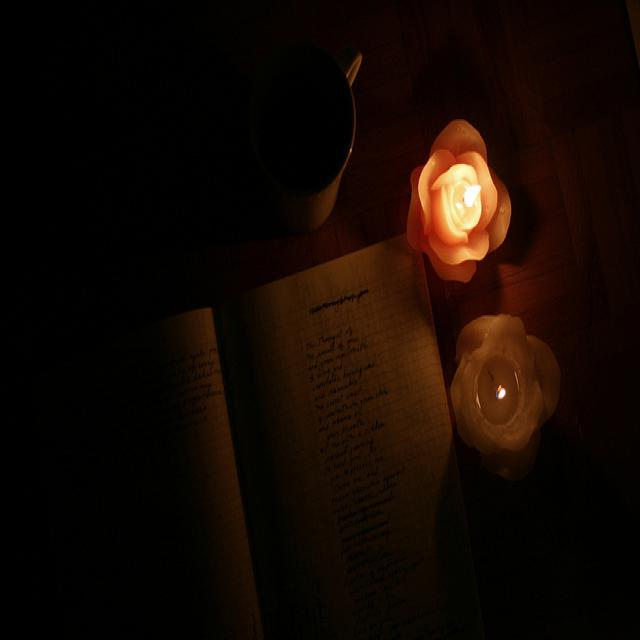Cup: (229, 45, 371, 217)
